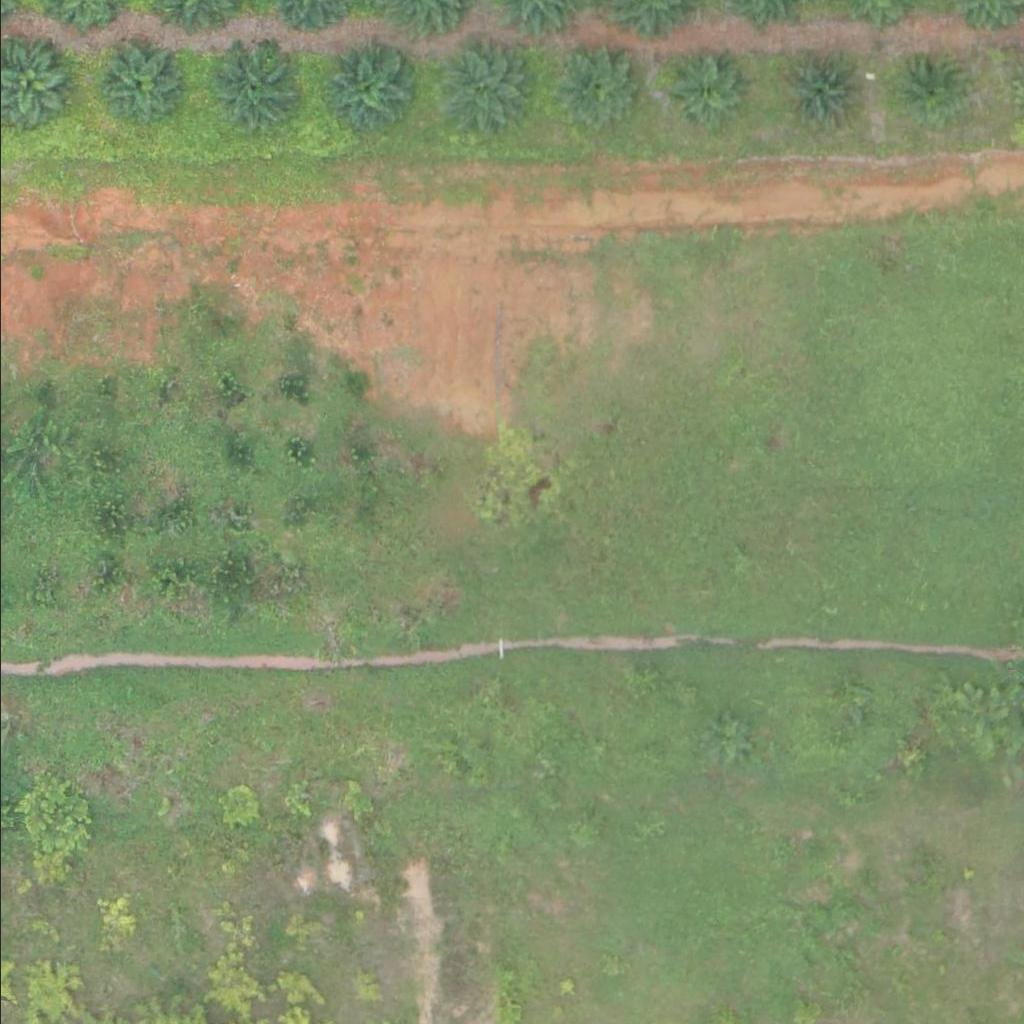Kelapa_Sawit: (315, 39, 416, 139), (654, 45, 742, 133), (207, 47, 295, 135), (93, 43, 181, 131), (773, 49, 861, 136), (553, 45, 641, 132), (438, 45, 526, 132), (900, 54, 963, 117)
